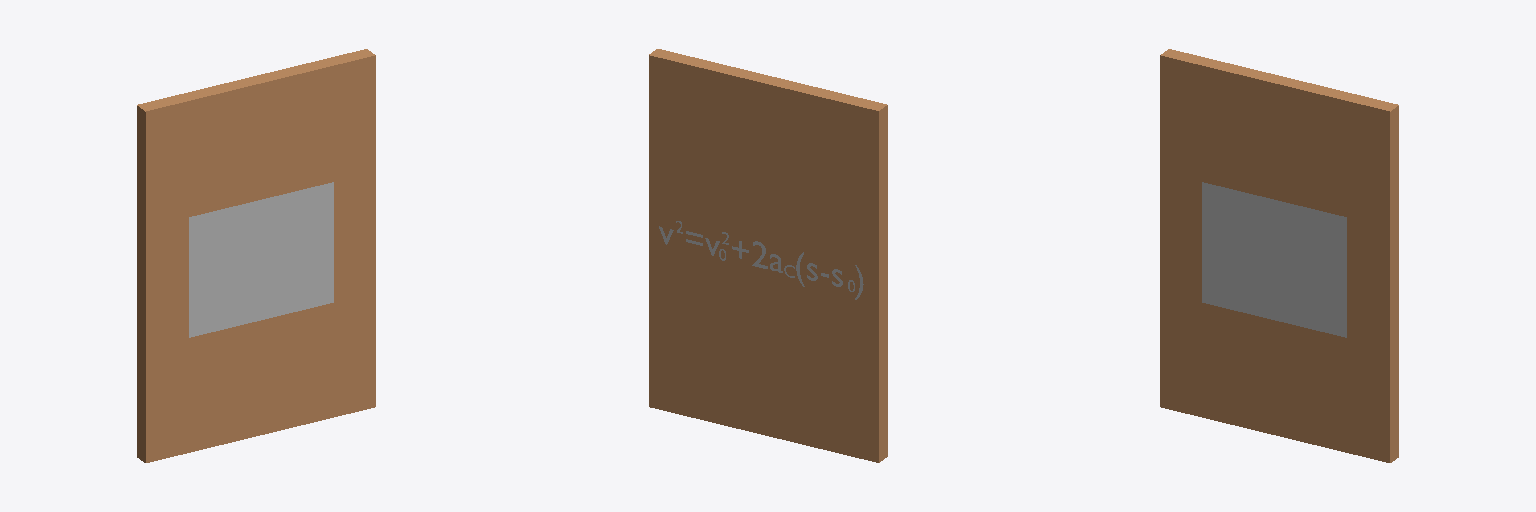
Rendered from CARTA11B.obj.
3 renders of one model, left to right at view 1: azimuth 30°, elevation 25°; view 2: azimuth 150°, elevation 25°; view 3: azimuth 330°, elevation 25°, orthographic.
Visible parts, largest first — view 1: cetyslogo.001; view 2: cetyslogo.001; view 3: cetyslogo.001.
Part boxes in pixels (bbox=[...]): cetyslogo.001: bbox=[137, 49, 375, 462]; cetyslogo.001: bbox=[649, 49, 887, 462]; cetyslogo.001: bbox=[1160, 49, 1398, 462].
Size of the model in its own units: 2 by 2.92 by 0.166.